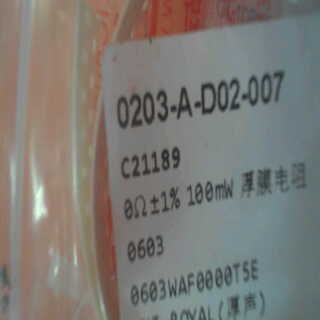0R: (119, 182, 182, 262)
